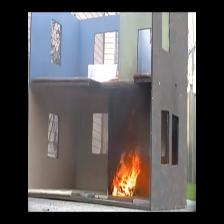fire: (114, 154, 139, 195)
smoke: (114, 89, 140, 113)
